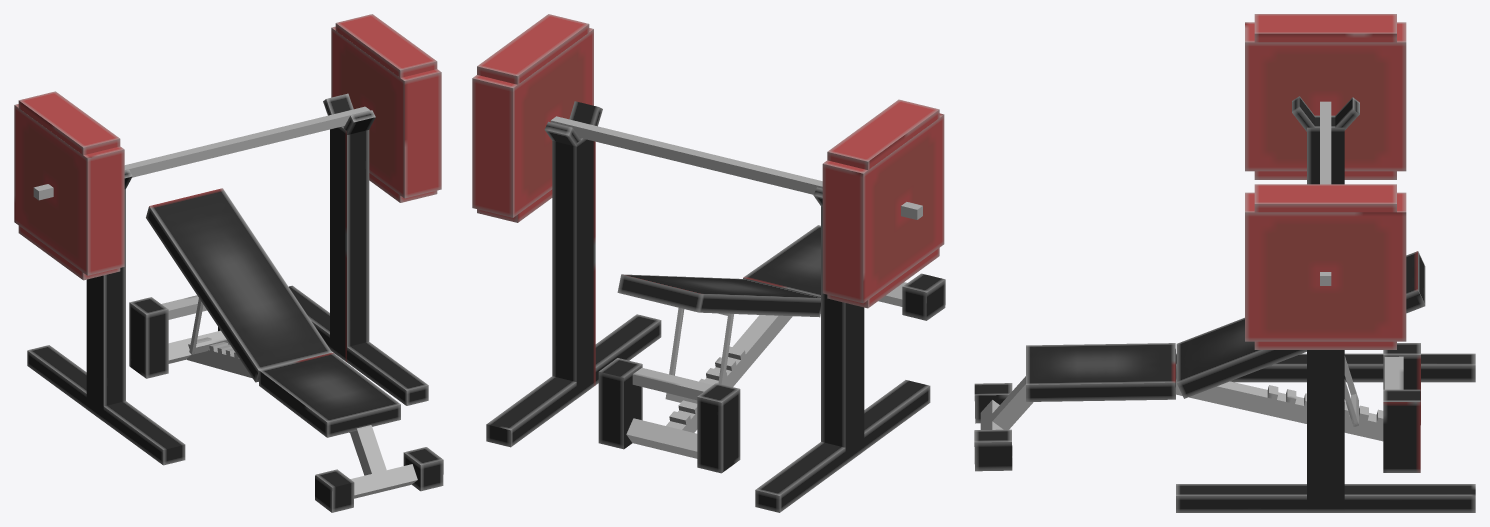
File: Gym_Weights.fbx
The picture shows the model from 3 angles, left to right: view 1: azimuth 30°, elevation 25°; view 2: azimuth 150°, elevation 25°; view 3: azimuth 270°, elevation 25°; orthographic projection. The views are drawn at different scales.
Parts seen in each view (by area): view 1: cube, cube_33, cube_34, cube_25, cube_1, cube_26, cube_24, cube_35, cube_32, cube_36, cube_23, cube_5 (+8 smaller); view 2: cube_33, cube_34, cube_25, cube_26, cube, cube_24, cube_23, cube_35, cube_32, cube_36, cube_5, cube_6 (+7 smaller); view 3: cube_34, cube_33, cube_1, cube_23, cube_25, cube, cube_36, cube_35, cube_24, cube_6, cube_8, cube_26 (+6 smaller).
Boxes of the visible parts, <box> form: cube: <box>146,188,331,382</box>; cube_33: <box>14,104,124,275</box>; cube_34: <box>331,26,441,198</box>; cube_25: <box>330,126,369,362</box>; cube_1: <box>259,352,400,437</box>; cube_26: <box>86,189,125,421</box>; cube_24: <box>27,345,185,465</box>; cube_35: <box>18,91,120,280</box>; cube_32: <box>33,106,370,200</box>; cube_36: <box>335,14,437,202</box>; cube_23: <box>289,285,428,405</box>; cube_5: <box>129,297,168,378</box>; cube_33: <box>822,113,944,303</box>; cube_34: <box>472,28,593,217</box>; cube_25: <box>552,138,595,398</box>; cube_26: <box>821,206,864,464</box>; cube: <box>617,274,820,317</box>; cube_24: <box>755,380,930,512</box>; cube_23: <box>486,314,661,447</box>; cube_35: <box>827,99,939,308</box>; cube_32: <box>550,116,922,219</box>; cube_36: <box>477,14,589,222</box>; cube_5: <box>697,383,740,473</box>; cube_6: <box>598,358,642,449</box>; cube_34: <box>1245,192,1406,341</box>; cube_33: <box>1245,22,1406,171</box>; cube_1: <box>1026,343,1175,401</box>; cube_23: <box>1176,484,1475,512</box>; cube_25: <box>1307,350,1344,512</box>; cube: <box>1176,251,1425,398</box>; cube_36: <box>1254,184,1396,349</box>; cube_35: <box>1254,14,1396,179</box>; cube_24: <box>1176,353,1475,382</box>; cube_6: <box>1383,389,1420,472</box>; cube_8: <box>1176,371,1383,441</box>; cube_26: <box>1307,115,1344,184</box>.
Bounding box in the file's own units: 79.7 × 61.53 × 83.63.
1 material, 1 textured.
